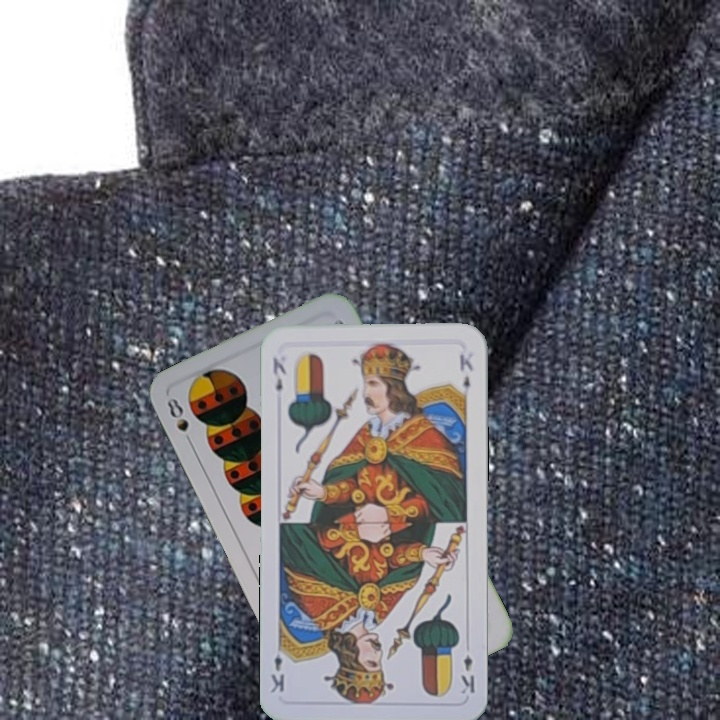EK: (457, 651, 477, 697), (269, 353, 289, 394)
S8: (162, 393, 197, 450)
